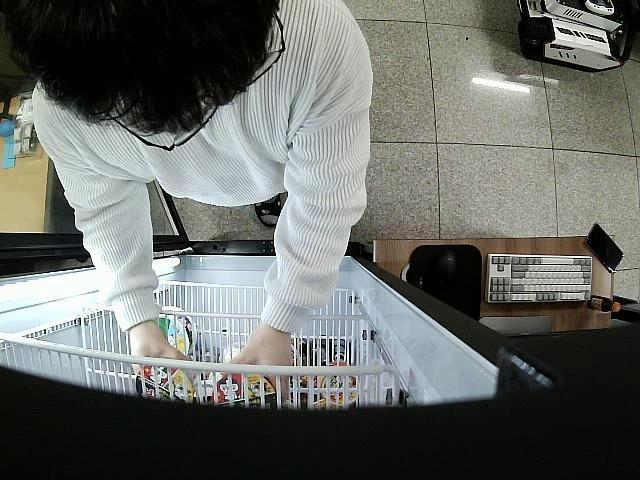08_buldak_S: (212, 364, 280, 413), (137, 356, 195, 403)
